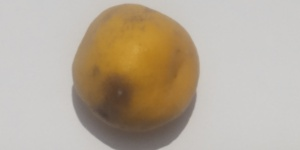BAD: (73, 2, 200, 134)
